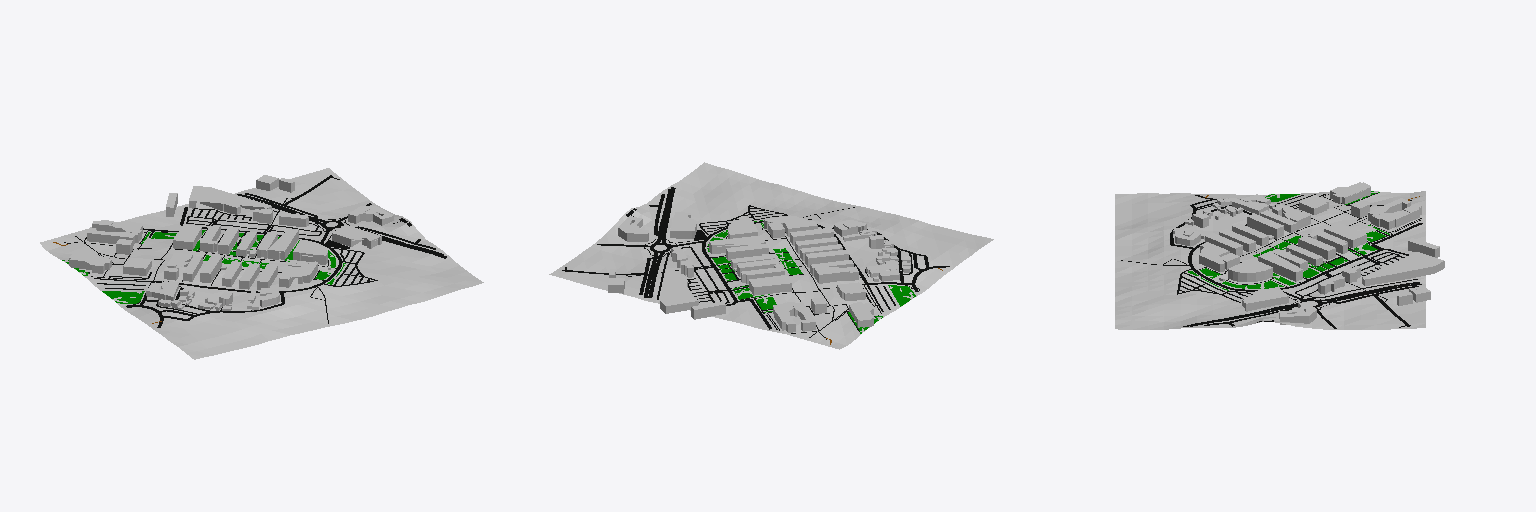
Rendered from UAmap.obj.
3 views of the same model, side by side, from view 1: azimuth 30°, elevation 25°; view 2: azimuth 150°, elevation 25°; view 3: azimuth 270°, elevation 25° (orthographic).
Parts seen in each view (by area): view 1: Terrain, map.osm_buildings, map_2.osm_buildings, map.osm_roads_residential, map.osm_roads_service, map.osm_vegetation, map.osm_roads_secondary, map.osm_paths_footway; view 2: Terrain, map.osm_buildings, map_2.osm_buildings, map.osm_roads_residential, map.osm_vegetation, map.osm_roads_service, map.osm_roads_secondary, map.osm_paths_footway; view 3: Terrain, map.osm_buildings, map_2.osm_buildings, map.osm_roads_residential, map.osm_vegetation, map.osm_roads_service, map.osm_roads_secondary.
Boxes of the visible parts, <box> form: Terrain: <box>40,168,483,359</box>; map.osm_buildings: <box>69,179,393,310</box>; map_2.osm_buildings: <box>70,175,391,310</box>; map.osm_roads_residential: <box>126,175,435,320</box>; map.osm_roads_service: <box>94,177,377,314</box>; map.osm_vegetation: <box>62,230,345,303</box>; map.osm_roads_secondary: <box>237,194,446,258</box>; map.osm_paths_footway: <box>64,198,402,323</box>; Terrain: <box>549,162,993,349</box>; map.osm_buildings: <box>608,212,910,332</box>; map_2.osm_buildings: <box>608,216,910,331</box>; map.osm_roads_residential: <box>562,194,929,329</box>; map.osm_vegetation: <box>707,220,915,333</box>; map.osm_roads_service: <box>565,205,912,311</box>; map.osm_roads_secondary: <box>644,187,675,297</box>; map.osm_paths_footway: <box>626,207,881,339</box>; Terrain: <box>1115,191,1425,329</box>; map.osm_buildings: <box>1173,182,1444,324</box>; map_2.osm_buildings: <box>1173,189,1444,323</box>; map.osm_roads_residential: <box>1170,199,1422,328</box>; map.osm_vegetation: <box>1188,191,1389,290</box>; map.osm_roads_service: <box>1177,194,1417,327</box>; map.osm_roads_secondary: <box>1183,282,1421,326</box>.
Bounding box in the file's own units: 638 × 39.35 × 623.